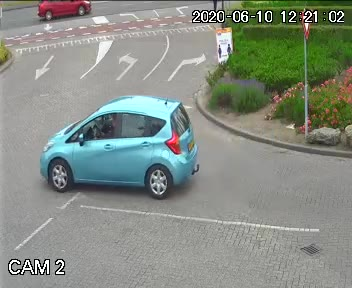car: (24, 89, 247, 233), (27, 0, 95, 27)
